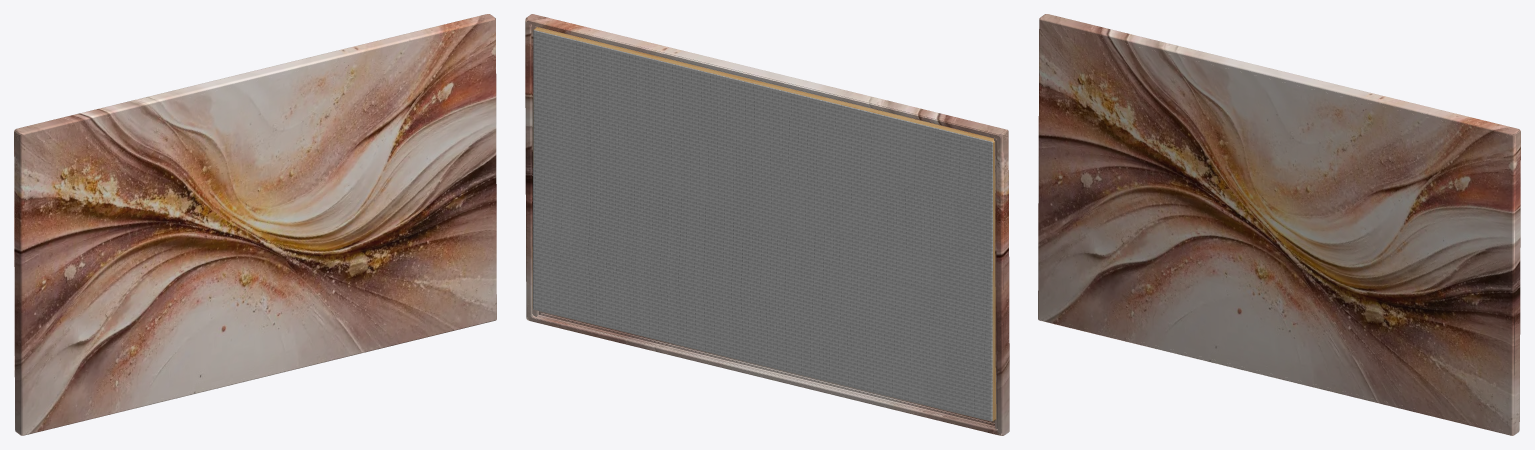
Rendered from retegek-harmoniaja.glb.
3 renders of one model, left to right at view 1: azimuth 30°, elevation 25°; view 2: azimuth 150°, elevation 25°; view 3: azimuth 330°, elevation 25°, orthographic.
Parts seen in each view (by area): view 1: canvas-print_0; view 2: canvas-print_0; view 3: canvas-print_0.
Boxes of the visible parts, box(x1,y1,x2,y2) form: canvas-print_0: box(14, 14, 496, 435); canvas-print_0: box(525, 14, 1009, 435); canvas-print_0: box(1038, 14, 1520, 435).
Size of the model in its own units: 1.44 by 0.8735 by 0.0487.
Materials: 2 (2 with a texture image).
